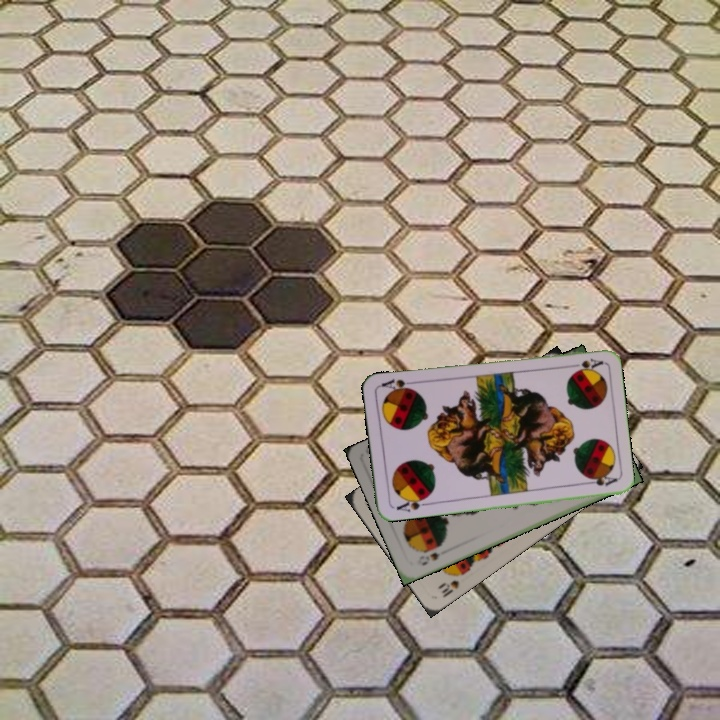S10: (434, 567, 467, 600)
SA: (392, 492, 431, 514), (564, 354, 605, 374)
SO: (418, 545, 450, 568)
